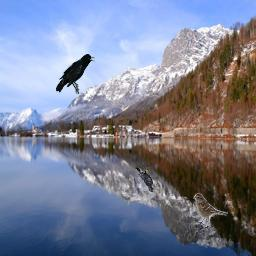Crow: (56, 54, 95, 94), (135, 167, 155, 192)
Sparrow: (193, 192, 228, 229)
